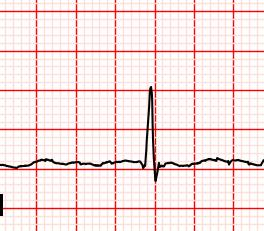ST Depression: (135, 155, 168, 186)
